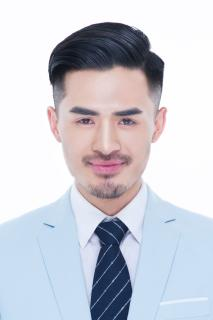unmask: (58, 80, 154, 195)
